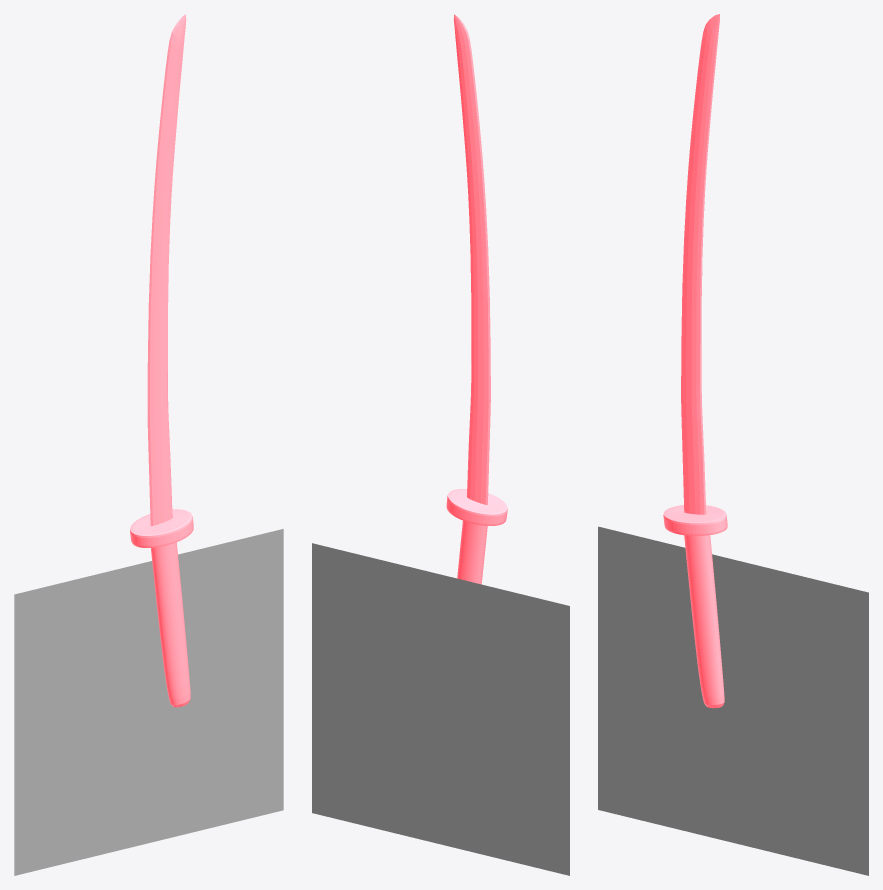
The model's file is katanaVariant1.fbx.
3 views of the same model, side by side, from view 1: azimuth 30°, elevation 25°; view 2: azimuth 150°, elevation 25°; view 3: azimuth 330°, elevation 25° (orthographic). The views are drawn at different scales.
Visible parts, largest first — view 1: Plane, Blade; view 2: Plane, Blade; view 3: Plane, Blade.
Boxes of the visible parts, box(x1,y1,x2,y2) form: Plane: box(14, 529, 283, 875); Blade: box(130, 14, 193, 707); Plane: box(312, 543, 569, 875); Blade: box(446, 14, 507, 584); Plane: box(598, 526, 868, 875); Blade: box(663, 14, 727, 708).
Size of the model in its own units: 200 by 600 by 47.85.
